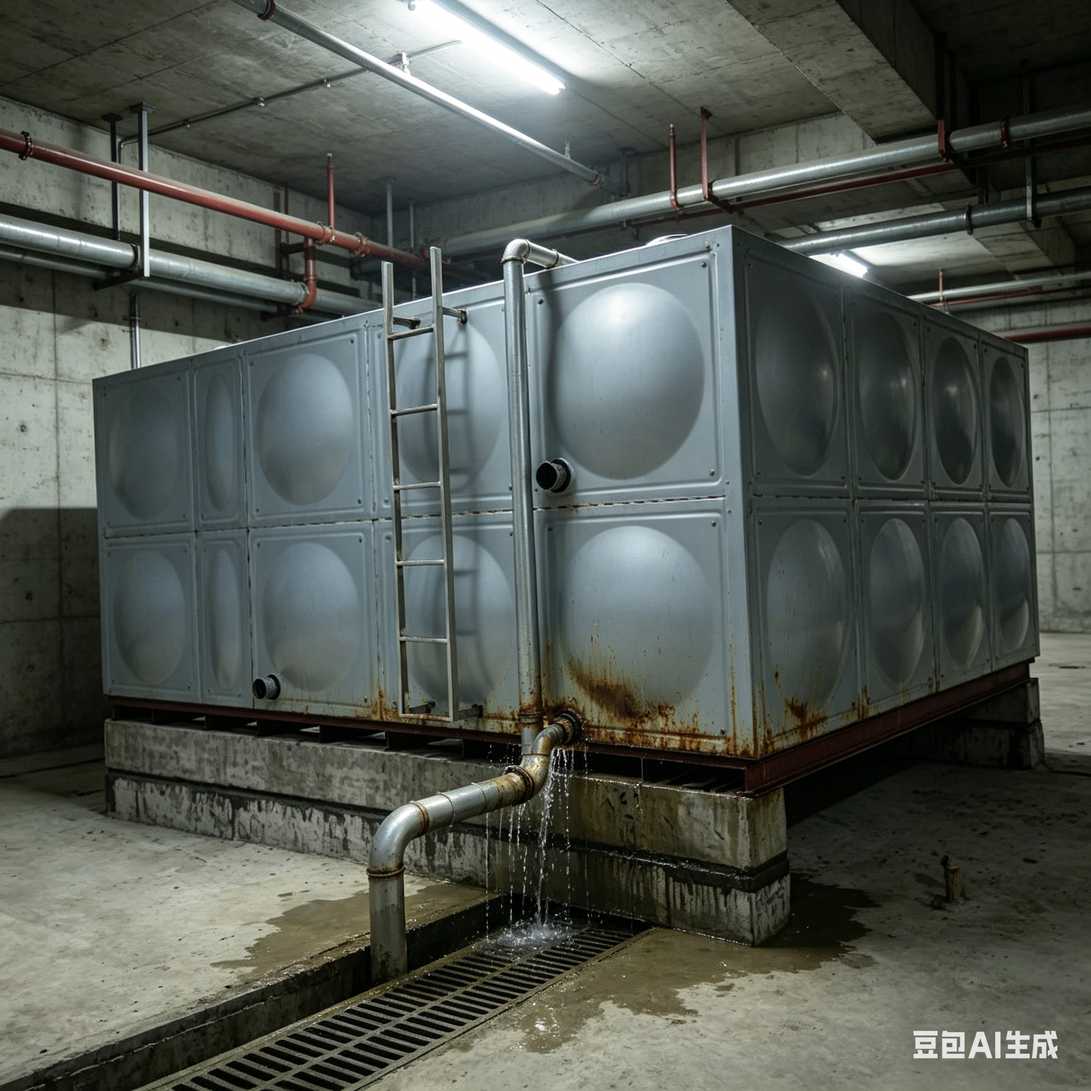Leakage: (457, 708, 604, 1047), (620, 917, 856, 999), (271, 904, 451, 967)
